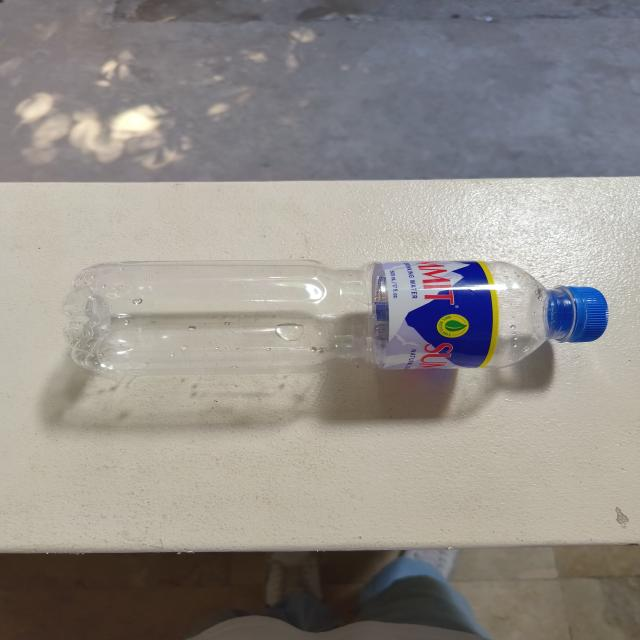Bottle: (64, 259, 608, 375)
